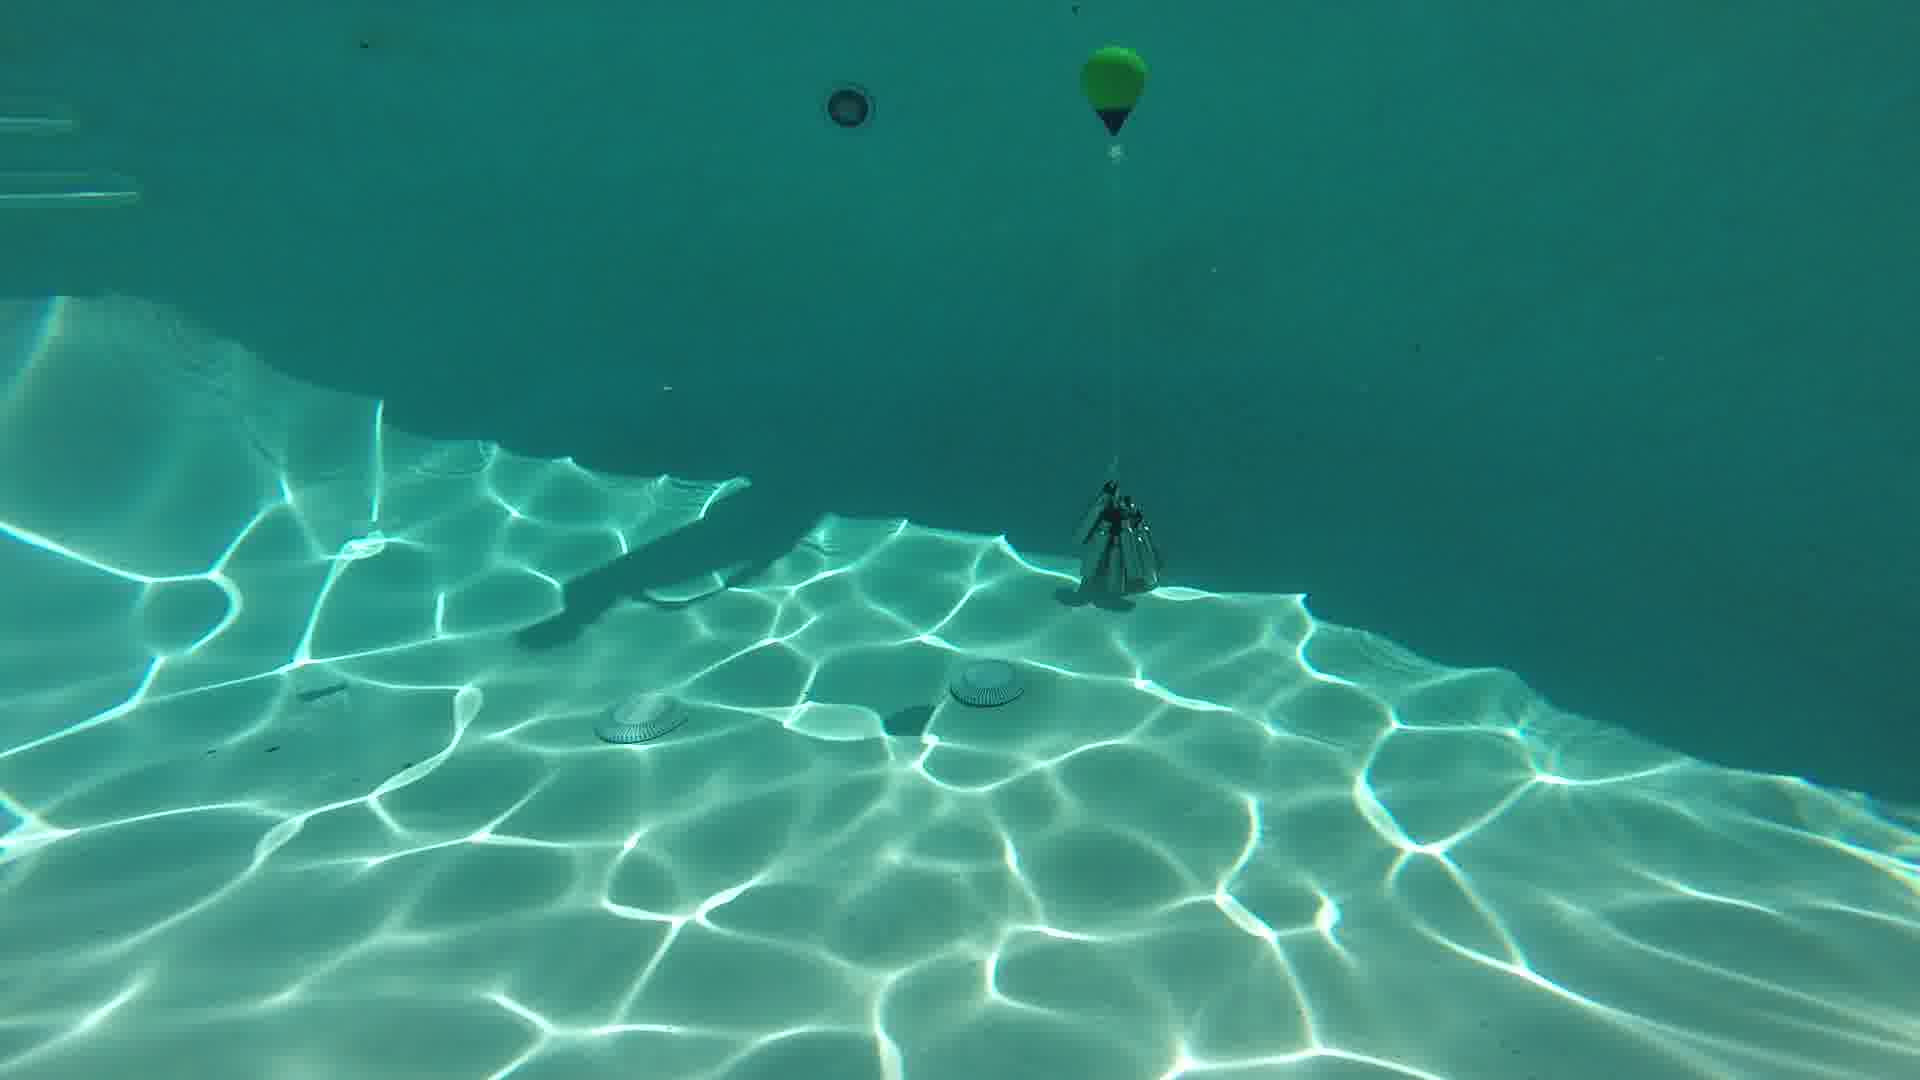yellow_buoy: (1081, 44, 1149, 164)
